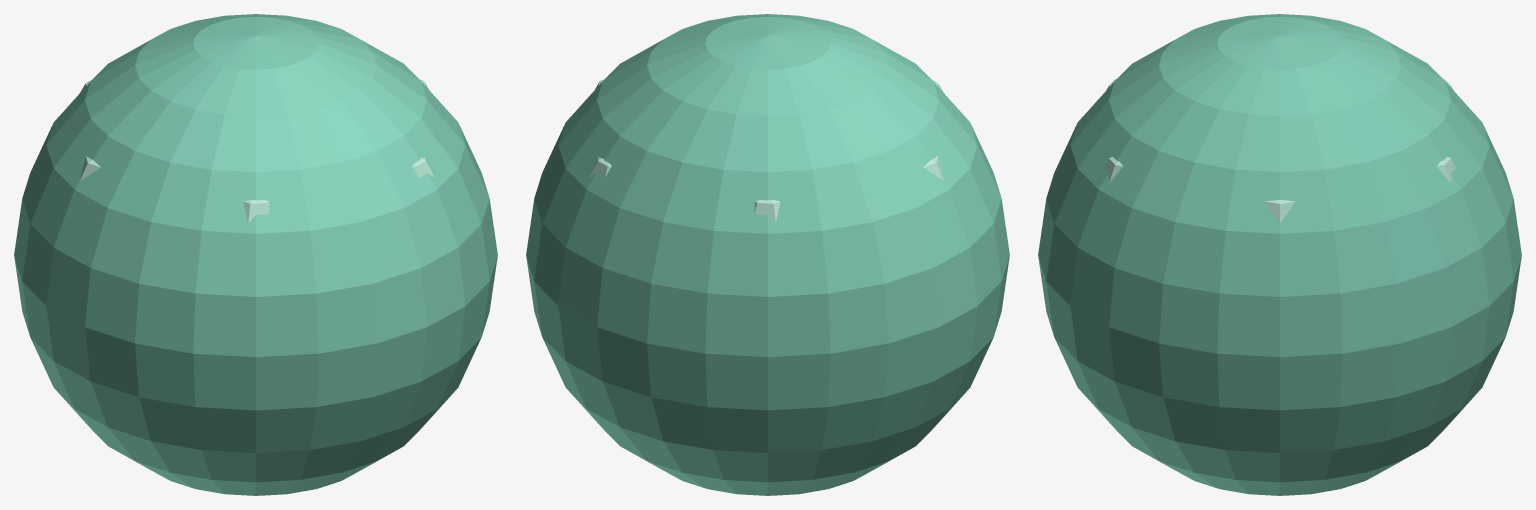
The model's file is esfera_jade.glb.
3 renders of one model, left to right at view 1: azimuth 30°, elevation 25°; view 2: azimuth 150°, elevation 25°; view 3: azimuth 270°, elevation 25°, orthographic.
Parts seen in each view (by area): view 1: esfera_jade; view 2: esfera_jade; view 3: esfera_jade.
Part boxes in pixels (left/top/right/bottom): esfera_jade: left=14, top=14, right=497, bottom=495; esfera_jade: left=526, top=14, right=1009, bottom=495; esfera_jade: left=1038, top=14, right=1521, bottom=495.
Size of the model in its own units: 0.56 by 0.56 by 0.56.
